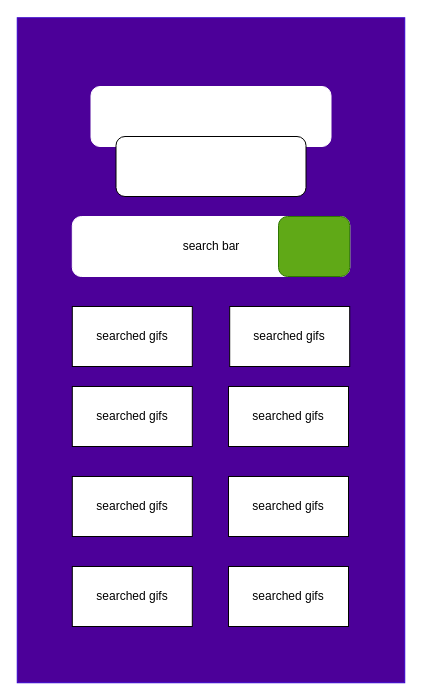
Image size: 423x700. Some labels were removed from this diagram. The centre of each missing label's shape, as x and y in pixels:
"image (stacked on top of search)" goes at (210,116).
"search button" goes at (314,246).
"search(underneath image text)" goes at (210,166).
